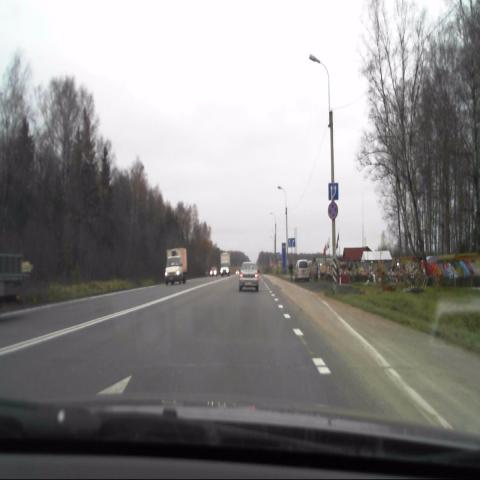3_27: (327, 202, 338, 219)
5_15_3: (328, 182, 338, 200)
